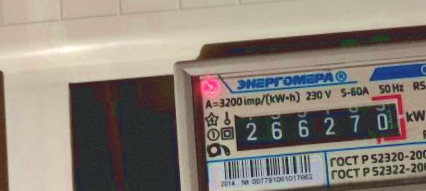0: (374, 110, 388, 132)
2: (242, 119, 258, 141), (321, 114, 335, 136)
6: (294, 117, 309, 137), (269, 119, 283, 140)
7: (346, 112, 361, 134)
screen: (222, 89, 413, 161)
